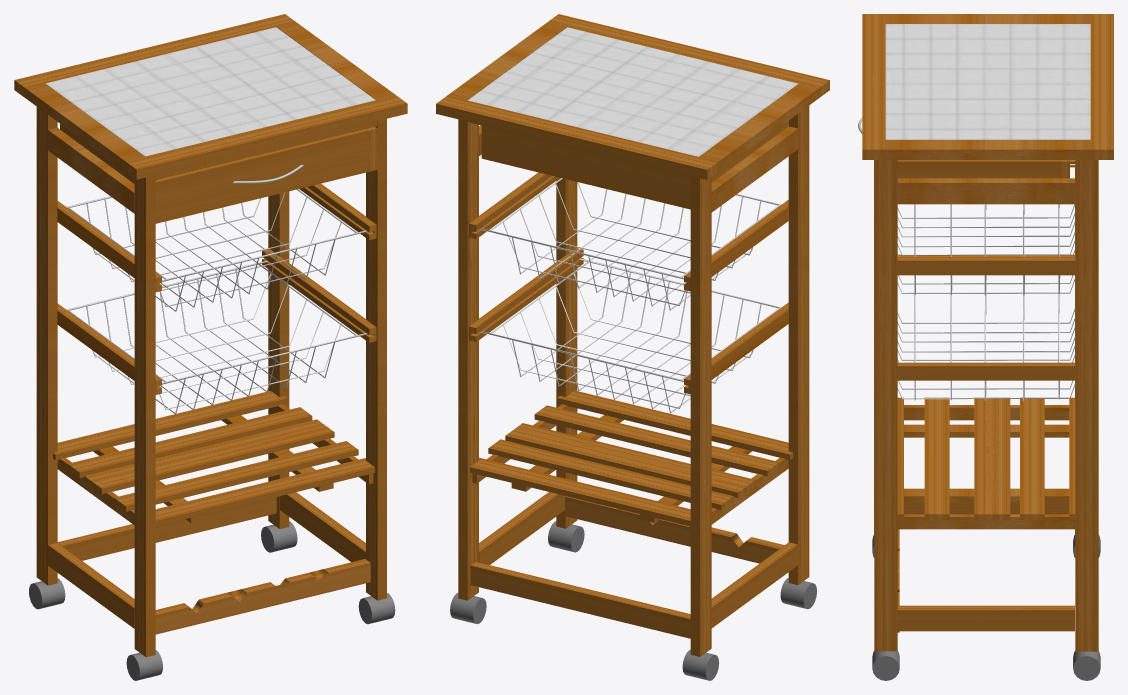
File: crate_cart.glb
3 views of the same model, side by side, from view 1: azimuth 30°, elevation 25°; view 2: azimuth 150°, elevation 25°; view 3: azimuth 270°, elevation 25° (orthographic). The views are drawn at different scales.
Parts seen in each view (by area): view 1: Cube_3_2_7_5, Cube_13_53_7, Tube_2_6_44_1, Cylinder_9_3_62_14, Tube_2_4_42_2; view 2: Cube_3_2_7_5, Cube_13_53_7, Tube_2_6_44_1, Cylinder_9_3_62_14, Tube_2_4_42_2; view 3: Cube_3_2_7_5, Cube_13_53_7, Tube_2_6_44_1, Cylinder_9_3_62_14, Tube_2_4_42_2.
Boxes of the visible parts, box(x1,y1,x2,y2) form: Cube_3_2_7_5: box(14, 14, 407, 657); Cube_13_53_7: box(45, 27, 375, 156); Tube_2_6_44_1: box(66, 165, 367, 414); Cylinder_9_3_62_14: box(29, 521, 395, 680); Tube_2_4_42_2: box(92, 273, 341, 409); Cube_3_2_7_5: box(436, 14, 829, 656); Cube_13_53_7: box(468, 27, 798, 156); Tube_2_6_44_1: box(479, 178, 781, 413); Cylinder_9_3_62_14: box(450, 521, 816, 680); Tube_2_4_42_2: box(503, 273, 752, 408); Cube_3_2_7_5: box(862, 14, 1113, 651); Cube_13_53_7: box(885, 24, 1090, 139); Tube_2_6_44_1: box(858, 117, 1075, 651); Cylinder_9_3_62_14: box(872, 535, 1100, 680); Tube_2_4_42_2: box(914, 275, 1060, 400).
Bounding box in the file's own units: 0.467 × 0.858 × 0.372.
Materials: 5 (2 with a texture image).
